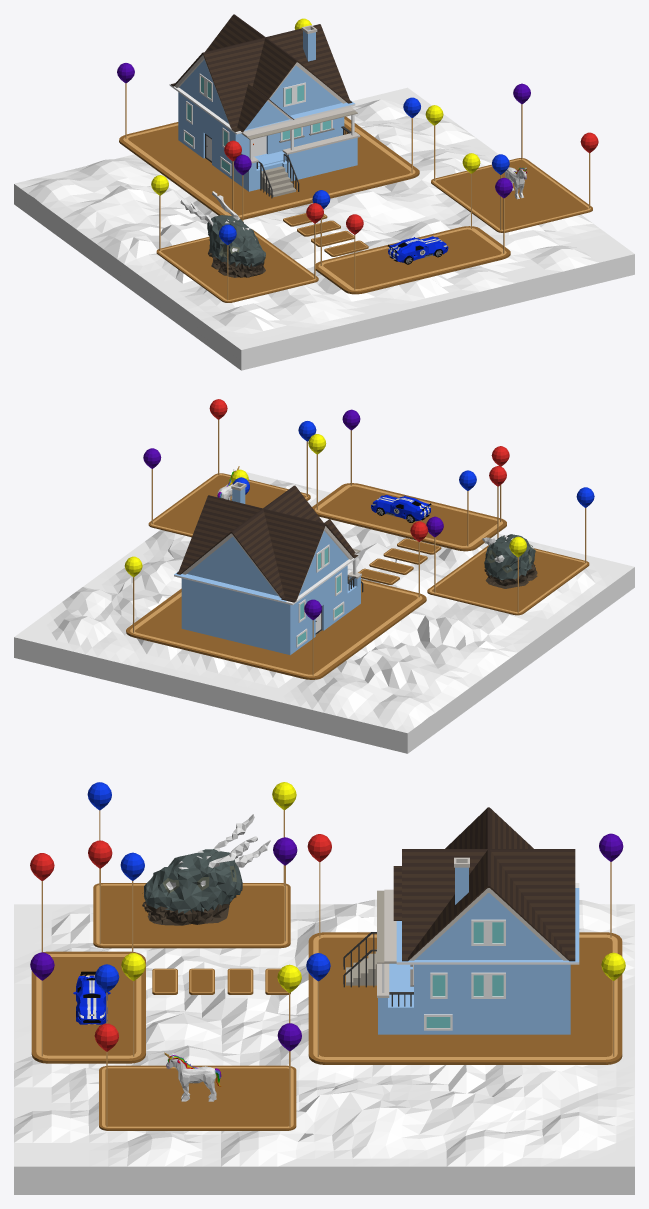
The picture shows the model from 3 angles, top to bottom: view 1: azimuth 30°, elevation 25°; view 2: azimuth 150°, elevation 25°; view 3: azimuth 270°, elevation 25°; orthographic projection. The views are drawn at different scales.
Parts seen in each view (by area): view 1: Cube.013, Cube.1594, OBJRANDOM_METEORITE, VEHICLES_RACING_CAR; view 2: Cube.013, Cube.1594, OBJRANDOM_METEORITE, VEHICLES_RACING_CAR; view 3: Cube.013, Cube.1594, OBJRANDOM_METEORITE, VEHICLES_RACING_CAR, ANIMAL_UNICORNIO.
Part boxes in pixels (box(x1,y1,x2,y2)): Cube.013: box(14, 18, 634, 370); Cube.1594: box(169, 14, 360, 198); OBJRANDOM_METEORITE: box(180, 191, 265, 277); VEHICLES_RACING_CAR: box(387, 236, 448, 264); Cube.013: box(14, 399, 634, 753); Cube.1594: box(174, 482, 363, 655); OBJRANDOM_METEORITE: box(482, 534, 537, 588); VEHICLES_RACING_CAR: box(371, 495, 431, 522); Cube.013: box(14, 782, 634, 1194); Cube.1594: box(343, 807, 579, 1034); OBJRANDOM_METEORITE: box(142, 814, 270, 925); VEHICLES_RACING_CAR: box(73, 971, 110, 1024); ANIMAL_UNICORNIO: box(164, 1052, 221, 1101).
Bounding box in the file's own units: 4000 × 1688 × 4000.
47 materials, 1 textured.
